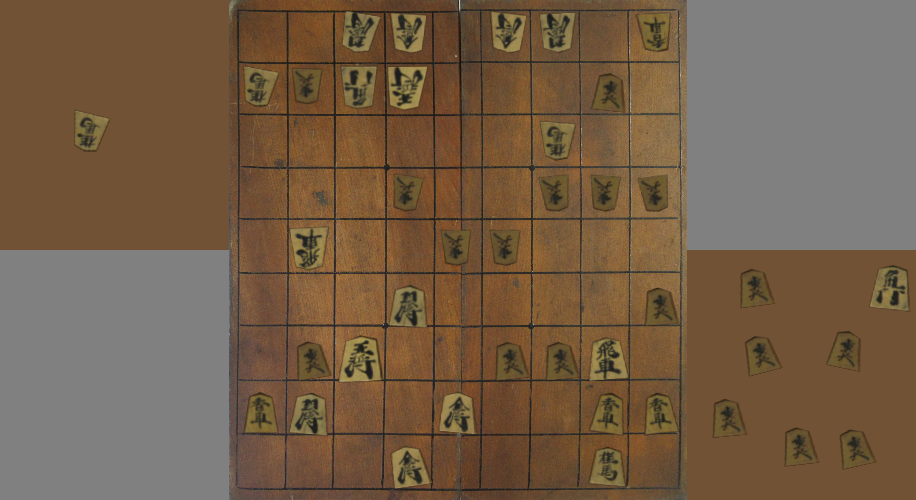A: (584, 332, 633, 383), (338, 331, 383, 386), (386, 282, 430, 334), (290, 388, 333, 441), (387, 445, 435, 491), (291, 337, 335, 382), (491, 337, 533, 384), (540, 339, 584, 383), (437, 390, 478, 437), (586, 445, 628, 490), (585, 393, 627, 437), (641, 392, 680, 437), (588, 71, 627, 115), (643, 286, 684, 327), (243, 391, 279, 434)
B: (383, 64, 429, 113), (535, 116, 578, 168), (283, 225, 329, 272), (385, 10, 433, 54), (338, 9, 382, 56), (240, 63, 283, 110), (634, 11, 675, 57), (338, 66, 378, 113), (286, 64, 330, 106), (584, 173, 626, 216), (390, 170, 425, 218), (489, 10, 527, 54), (486, 224, 524, 267), (539, 12, 578, 53), (634, 175, 672, 214), (538, 173, 573, 213), (439, 227, 473, 266)
C: (866, 263, 914, 314), (824, 327, 866, 373), (734, 267, 777, 311), (742, 334, 786, 376), (838, 429, 882, 471), (707, 399, 749, 440), (782, 427, 823, 469)
D: (66, 109, 113, 163)
